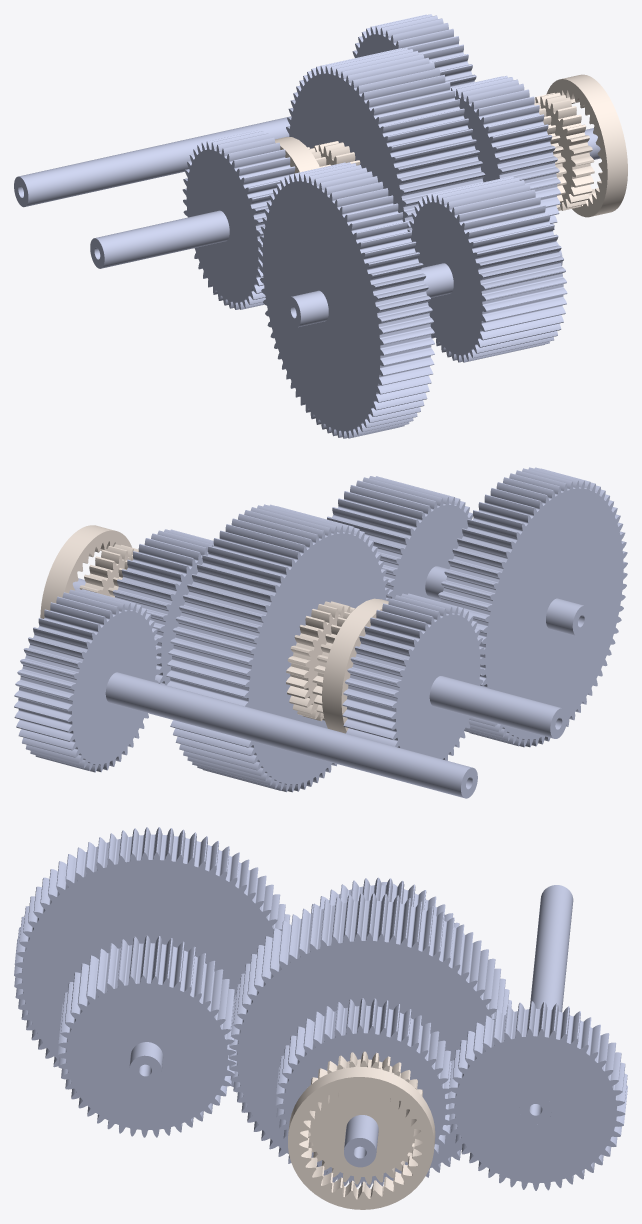
The model's file is prototypeV2.glb.
The picture shows the model from 3 angles, top to bottom: view 1: azimuth 30°, elevation 25°; view 2: azimuth 150°, elevation 25°; view 3: azimuth 270°, elevation 25°; orthographic projection. The views are drawn at different scales.
Parts seen in each view (by area): view 1: spur_gear_2-2, spur_gear_3-1, spur_gear_4-1, spur_gear_1-1, spur_gear_5-1, front_output_shaft-1, internal spur gear_am-1, input_shaft-1, spur_gear_6-1, spur gear_am-4, inter_shaft-1, internal spur gear_am-2 (+2 smaller); view 2: spur_gear_4-1, spur_gear_2-2, spur_gear_6-1, spur_gear_1-1, front_output_shaft-1, spur_gear_3-1, spur_gear_5-1, input_shaft-1, spur gear_am-5, internal spur gear_am-2, internal spur gear_am-1, inter_shaft-1 (+2 smaller); view 3: spur_gear_4-1, spur_gear_2-2, spur_gear_3-1, spur_gear_6-1, spur_gear_5-1, internal spur gear_am-1, spur gear_am-4, front_output_shaft-1, spur_gear_1-1, rear_output_shaft-1, inter_shaft-1, spur gear_am-1.
Boxes of the visible parts, x1,y1,x2,y2 form: spur_gear_2-2: (259,162,434,438); spur_gear_3-1: (407,176,567,362); spur_gear_4-1: (286,48,485,230); spur_gear_1-1: (182,130,295,309); spur_gear_5-1: (450,76,560,229); front_output_shaft-1: (14,116,291,207); internal spur gear_am-1: (546,74,627,217); input_shaft-1: (90,210,229,268); spur_gear_6-1: (352,14,476,87); spur gear_am-4: (534,92,594,210); inter_shaft-1: (286,241,562,327); internal spur gear_am-2: (275,137,319,173); spur_gear_4-1: (166,504,389,792); spur_gear_2-2: (438,467,627,747); spur_gear_6-1: (14,588,159,772); spur_gear_1-1: (342,593,484,760); front_output_shaft-1: (105,672,477,798); spur_gear_3-1: (327,476,472,601); spur_gear_5-1: (112,529,213,685); input_shaft-1: (429,676,567,738); spur gear_am-5: (286,601,355,721); internal spur gear_am-2: (322,598,388,733); internal spur gear_am-1: (40,525,131,618); inter_shaft-1: (425,566,589,636); spur_gear_4-1: (228,893,511,1187); spur_gear_2-2: (14,827,290,1086); spur_gear_3-1: (57,935,236,1137); spur_gear_6-1: (446,1001,627,1190); spur_gear_5-1: (275,998,451,1184); internal spur gear_am-1: (288,1067,435,1209); spur gear_am-4: (308,1065,414,1184); front_output_shaft-1: (519,885,573,1124); spur_gear_1-1: (311,877,464,934); rear_output_shaft-1: (344,1115,378,1167); inter_shaft-1: (129,1042,163,1085); spur gear_am-1: (311,1051,422,1096).
Bounding box in the file's own units: 0.5583 × 0.259 × 0.5646.
